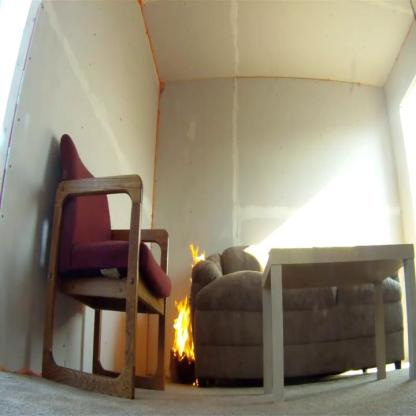fire: (173, 294, 196, 364), (187, 244, 207, 266)
